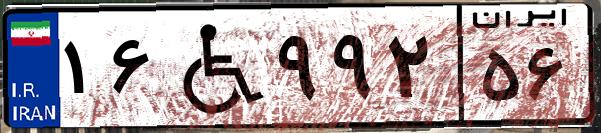1: (57, 26, 110, 100)
2: (385, 28, 445, 110)
5: (475, 38, 525, 113)
6: (525, 38, 570, 115), (110, 28, 158, 98)
9: (270, 28, 330, 110), (330, 28, 385, 110)
ژ (معلولین و جانبازان): (158, 12, 270, 120)
